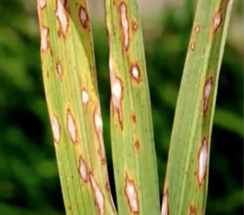Bercak Coklat: (130, 138, 147, 152), (129, 108, 138, 127)
Busuk Leher: (109, 60, 126, 129), (121, 167, 143, 215), (90, 101, 104, 162), (52, 1, 74, 39), (89, 169, 106, 215), (61, 106, 80, 145), (197, 133, 210, 188), (118, 1, 131, 51), (73, 153, 89, 183), (202, 73, 213, 116), (40, 22, 52, 57), (49, 113, 61, 147), (78, 86, 91, 112), (77, 3, 89, 31), (52, 60, 67, 82), (160, 188, 172, 215), (129, 62, 143, 84), (212, 7, 224, 32), (37, 1, 50, 16), (130, 17, 140, 35), (190, 36, 198, 54), (194, 23, 203, 37)
